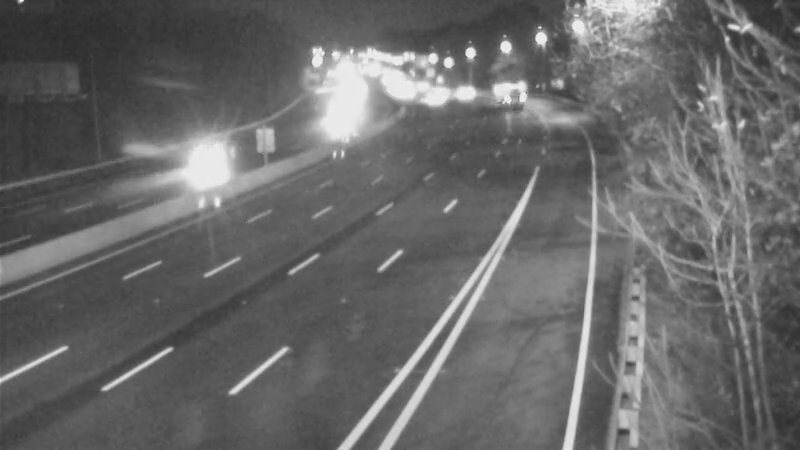vehicle: (172, 124, 252, 204), (438, 66, 488, 116), (486, 64, 536, 114)
